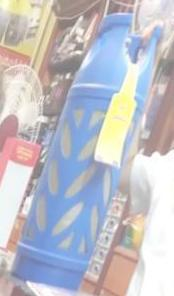cylinder: (1, 1, 174, 296)
